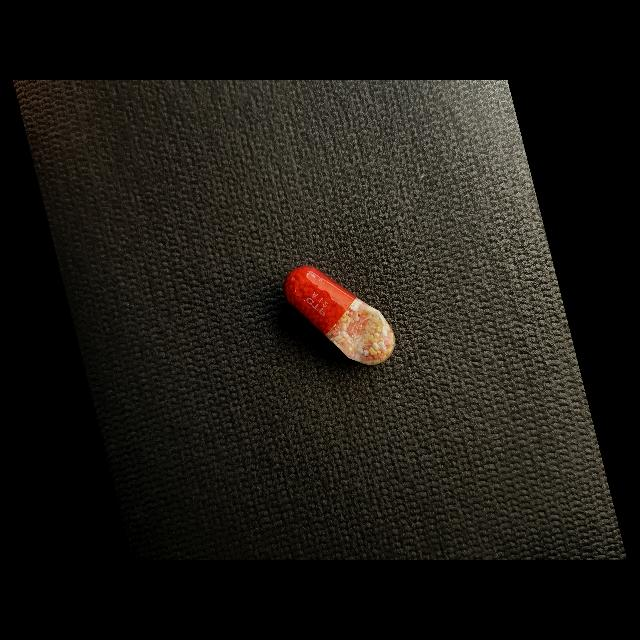Defective Capsule: (284, 266, 395, 365)
